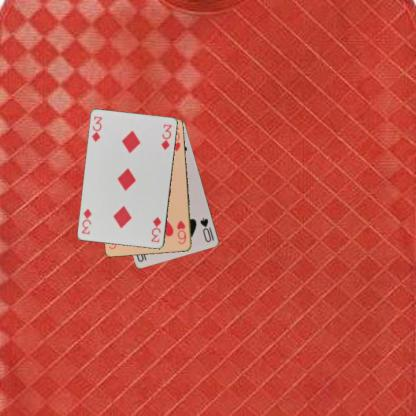10s: (198, 215, 216, 244)
3d: (148, 214, 163, 244), (90, 114, 104, 143)
6h: (175, 218, 187, 245)
